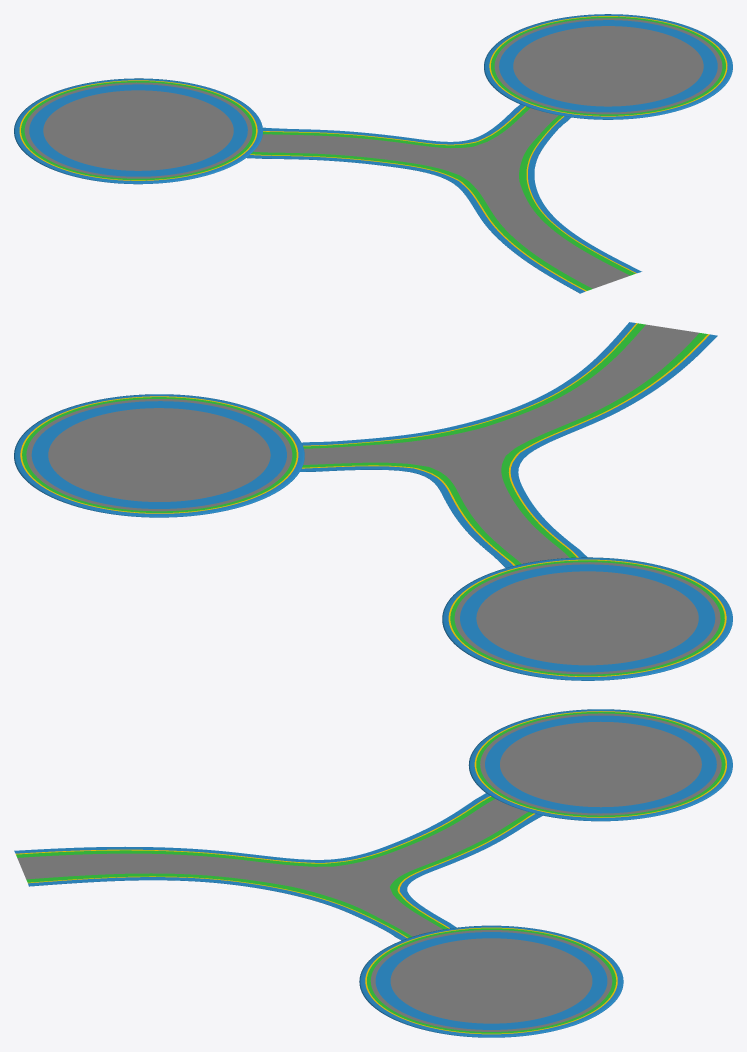
Rendered from Floor.fbx.
The picture shows the model from 3 angles, top to bottom: view 1: azimuth 30°, elevation 25°; view 2: azimuth 150°, elevation 25°; view 3: azimuth 270°, elevation 25°; orthographic projection. The views are drawn at different scales.
Visible parts, largest first — view 1: Plane001; view 2: Plane001; view 3: Plane001.
Part boxes in pixels (x1,y1,x2,y2): Plane001: (14,14,732,293); Plane001: (14,322,732,680); Plane001: (14,709,732,1037).
Size of the model in its own units: 1668 by 2.39 by 1545.
